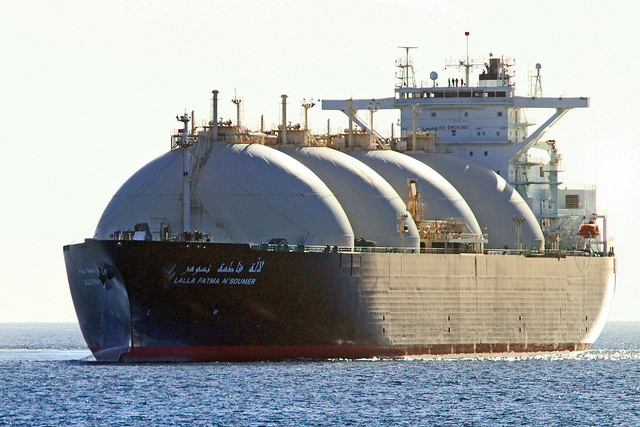LNG_ship: (56, 34, 621, 367)
